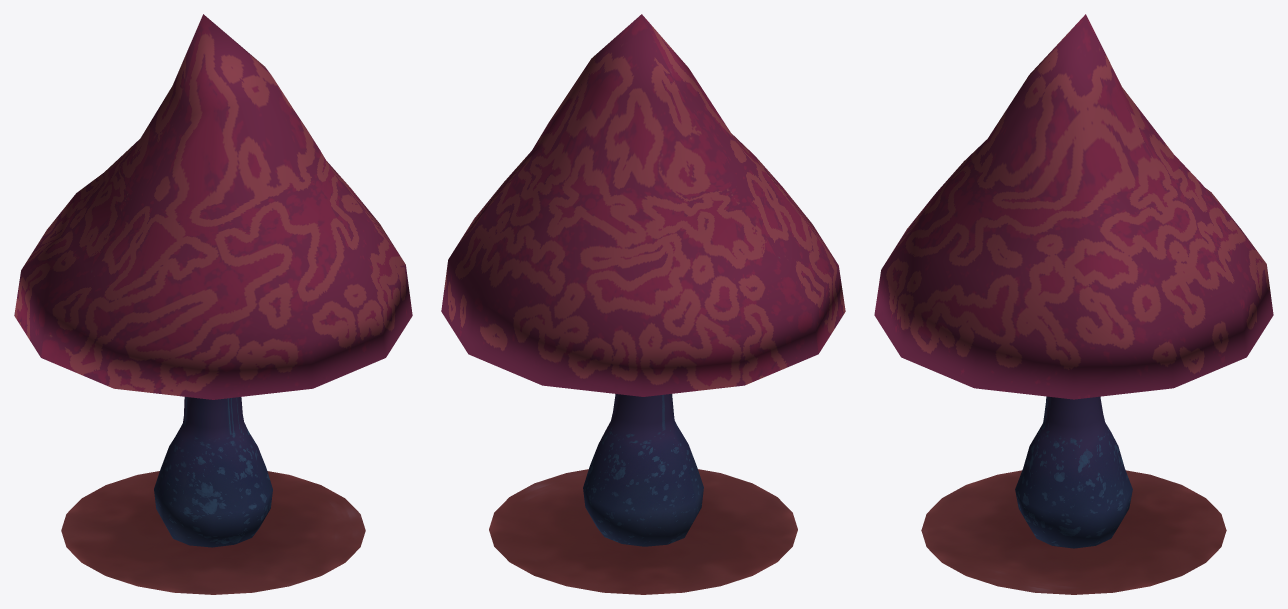
File: mushroom try1 pointy .fbx
The picture shows the model from 3 angles, left to right: view 1: azimuth 30°, elevation 25°; view 2: azimuth 150°, elevation 25°; view 3: azimuth 270°, elevation 25°; orthographic projection.
Visible parts, largest first — view 1: pSphere1, pDisc2; view 2: pSphere1, pDisc2; view 3: pSphere1, pDisc2.
Boxes of the visible parts, x1,y1,x2,y2 form: pSphere1: (14,14,412,547); pDisc2: (61,471,365,594); pSphere1: (441,14,845,546); pDisc2: (489,469,797,594); pSphere1: (874,14,1273,548); pDisc2: (921,470,1226,594).
Bounding box in the file's own units: 271 × 385 × 271.
